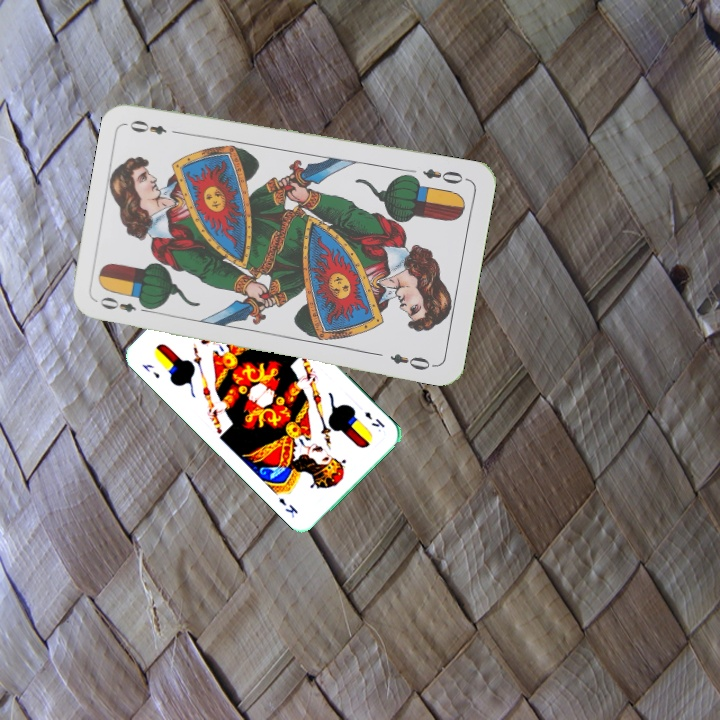EK: (361, 407, 387, 430), (138, 360, 162, 381)
EO: (96, 293, 153, 316), (418, 164, 466, 187)
